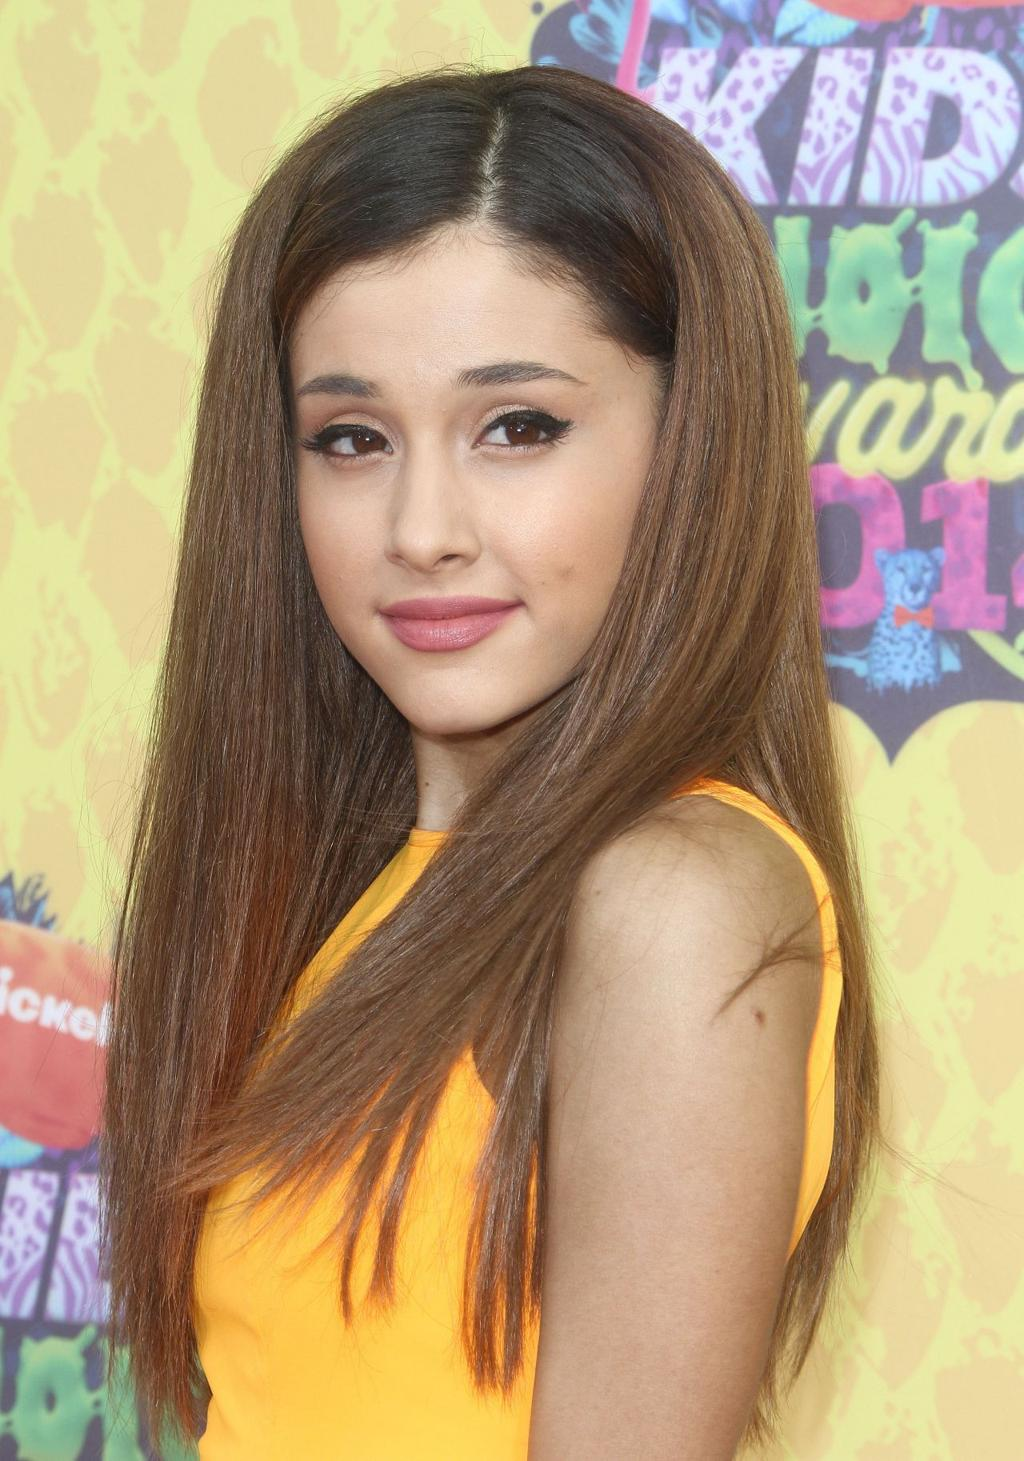face: (285, 237, 670, 739)
